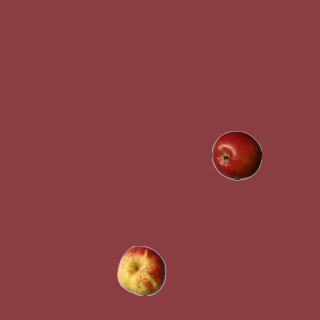Apple Braeburn: (211, 130, 261, 180)
Apple Red Yellow 1: (116, 245, 166, 295)
